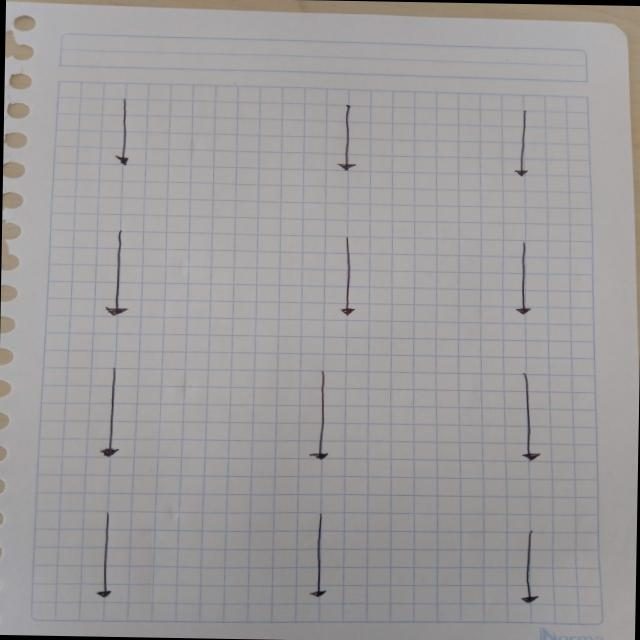arrow_line_down: (495, 365, 565, 473), (286, 367, 344, 471), (86, 364, 143, 464), (94, 224, 144, 328), (325, 232, 382, 323), (296, 509, 336, 606), (86, 506, 124, 608), (502, 110, 556, 180), (511, 243, 558, 321), (514, 528, 552, 612), (109, 94, 144, 171), (330, 102, 366, 169)
